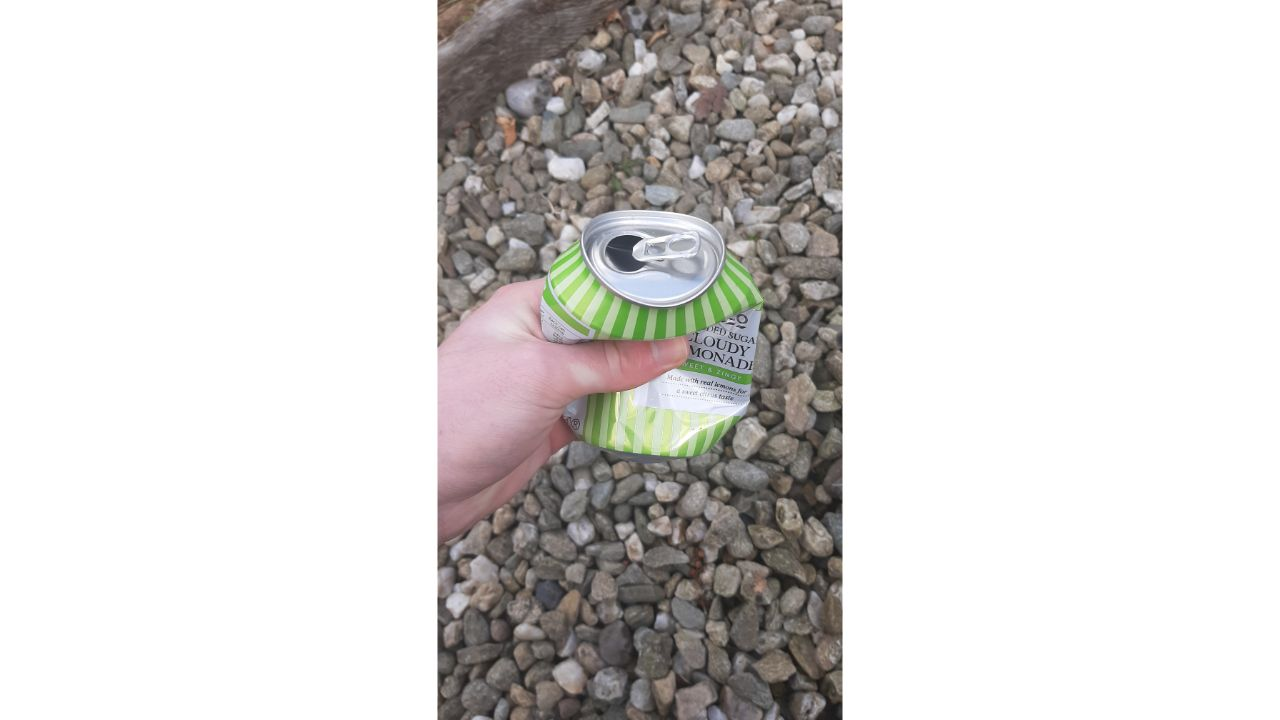Can: (532, 202, 775, 473)
